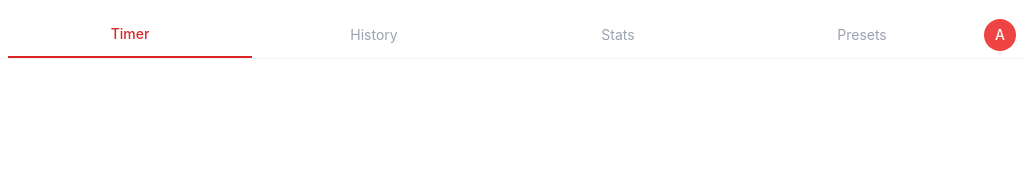
Test case: Integration with UserAvatar › T17: clicking avatar inside Navigation opens the dropdown
Click the button named "avatar": (1000, 35) [984,19,1016,51]
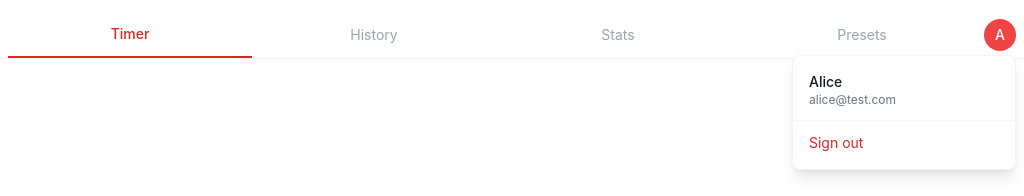
Check: the button "Sign out" is shown, box [793,125,1015,161]
